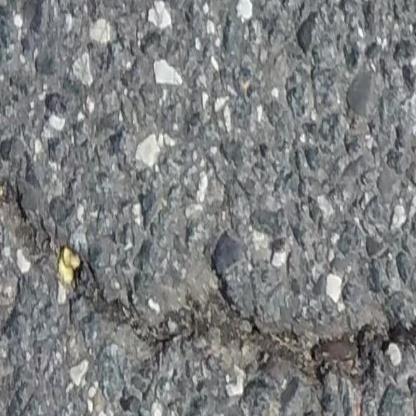Cracks: (0, 178, 416, 386)
